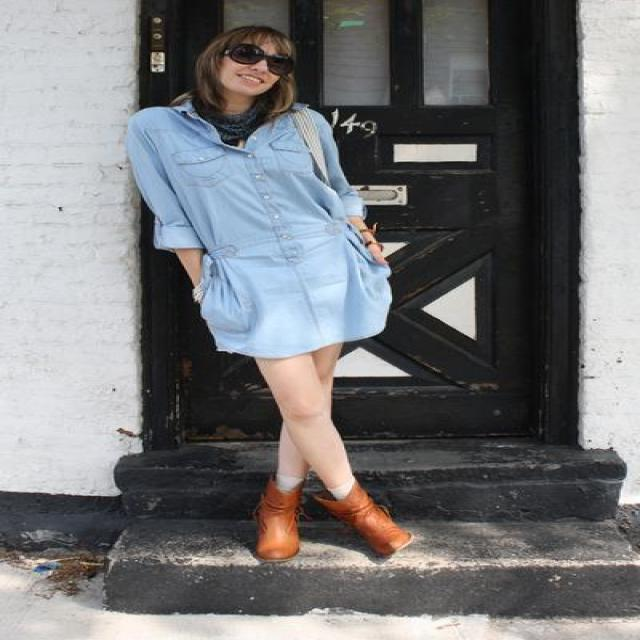dress: (116, 100, 390, 358)
shoe: (259, 479, 402, 546)
sunglass: (230, 42, 285, 72)
